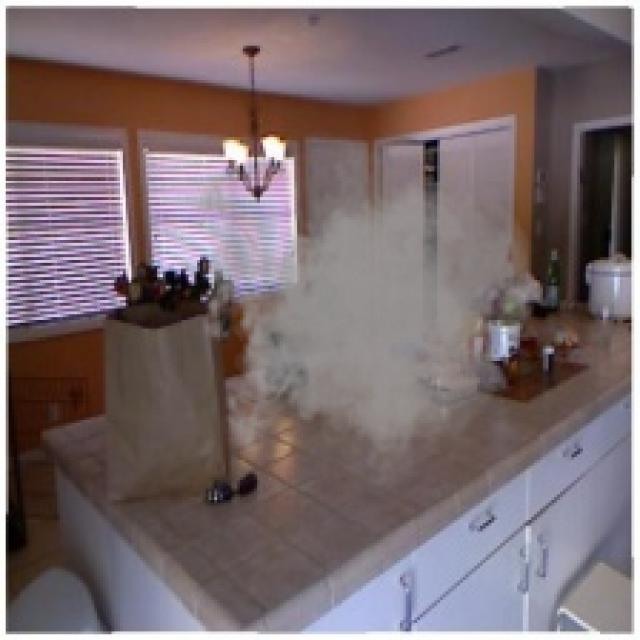smoke: (183, 120, 537, 509)
